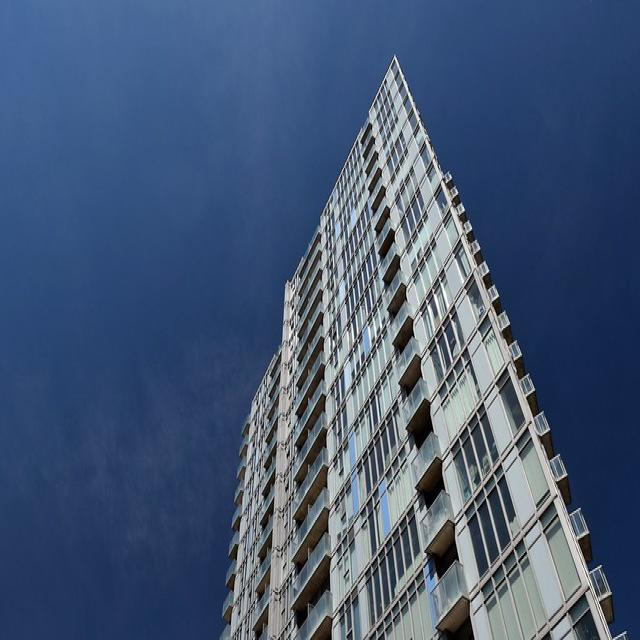building: (217, 43, 636, 640)
